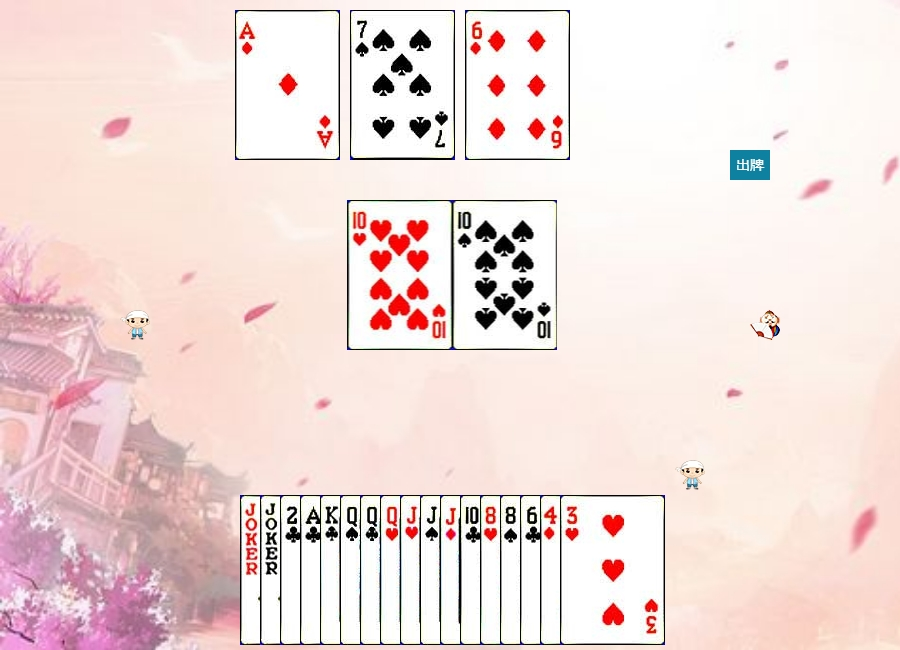10~2: (460, 495, 565, 645)
10~3: (348, 200, 453, 350)
10~4: (453, 200, 558, 350)
11~1: (440, 495, 545, 645)
11~3: (400, 495, 505, 645)
11~4: (420, 495, 525, 645)
12~2: (360, 495, 465, 645)
12~3: (380, 495, 485, 645)
12~4: (340, 495, 445, 645)
13~2: (320, 495, 425, 645)
14~1: (235, 10, 340, 160)
14~2: (300, 495, 405, 645)
15~2: (280, 495, 385, 645)
17~3: (260, 495, 365, 645)
18~4: (240, 495, 345, 645)
3~3: (560, 495, 665, 645)
4~1: (540, 495, 645, 645)
6~1: (465, 10, 570, 160)
6~2: (520, 495, 625, 645)
7~4: (350, 10, 455, 160)
8~3: (480, 495, 585, 645)
8~4: (500, 495, 605, 645)
